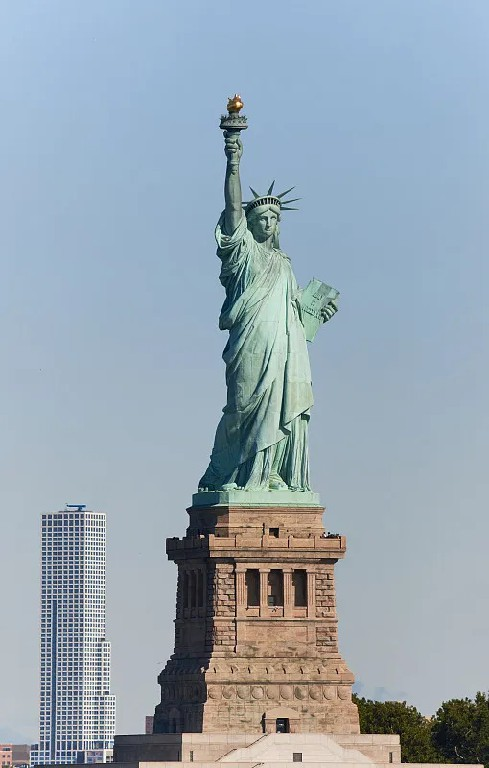SL: (153, 94, 361, 734)
